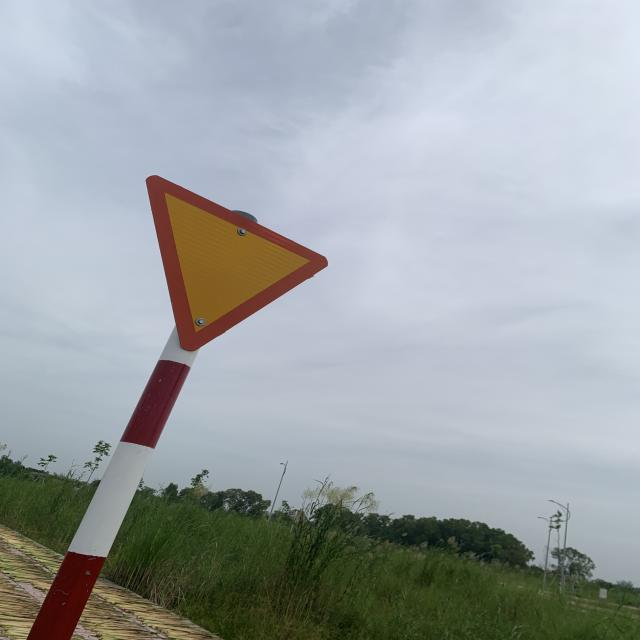Gioi_Han_Toc_Do_25: (145, 175, 329, 348)
